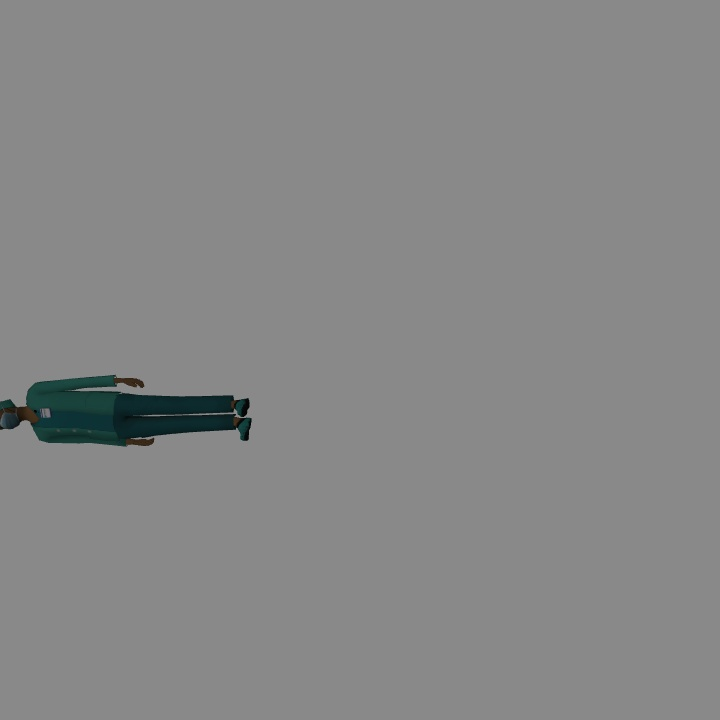victim: (4, 375, 250, 444)
